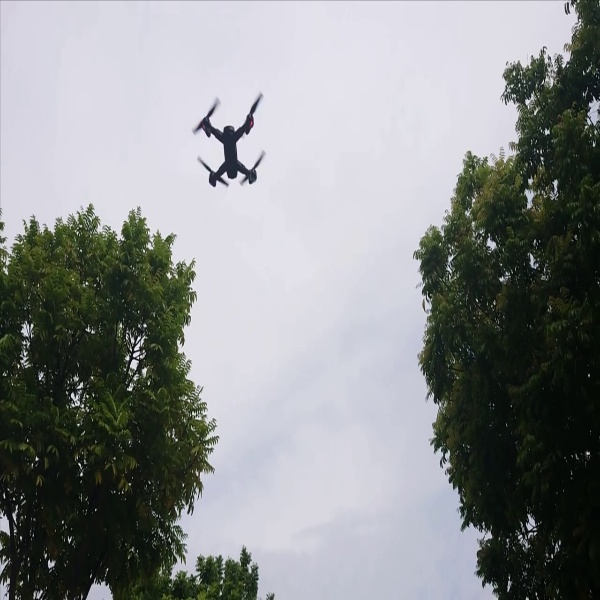drone: (183, 90, 277, 194)
